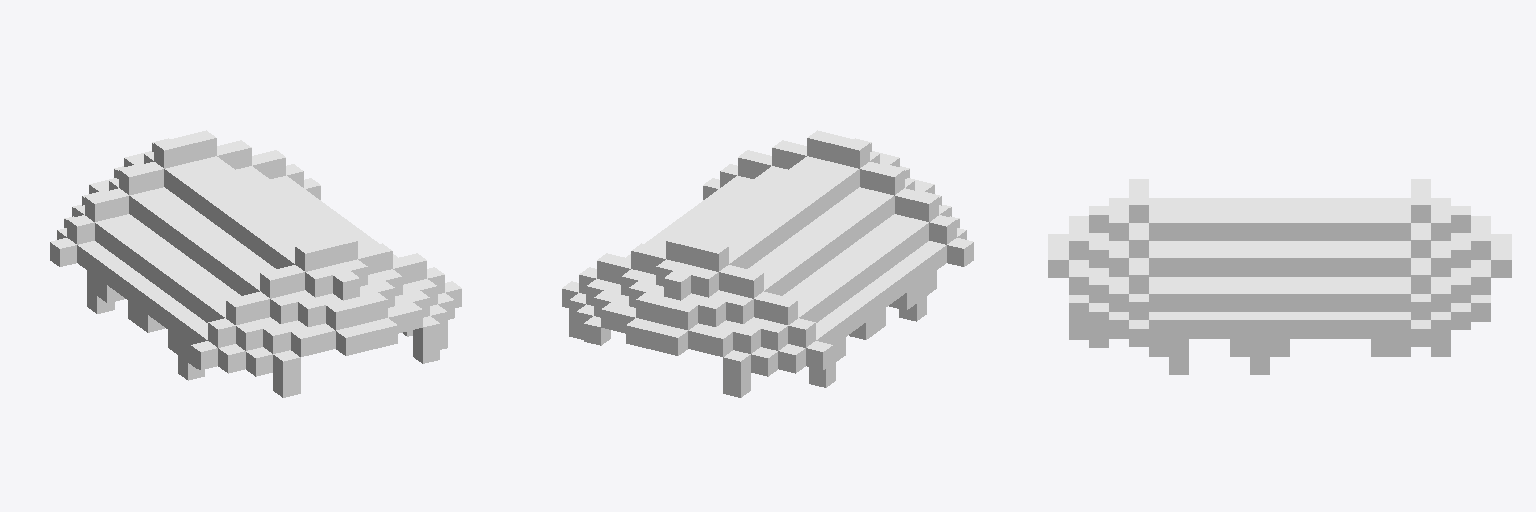
File: toit_campagne_pauvre_1.obj
The picture shows the model from 3 angles: view 1: azimuth 30°, elevation 25°; view 2: azimuth 150°, elevation 25°; view 3: azimuth 270°, elevation 25°; orthographic projection.
Parts seen in each view (by area): view 1: toit_campagne_pauvre_1; view 2: toit_campagne_pauvre_1; view 3: toit_campagne_pauvre_1.
Boxes of the visible parts, box(x1,y1,x2,y2) form: toit_campagne_pauvre_1: box(50, 130, 461, 397); toit_campagne_pauvre_1: box(562, 130, 973, 397); toit_campagne_pauvre_1: box(1048, 179, 1511, 374).
Bounding box in the file's own units: 15 × 7 × 23.